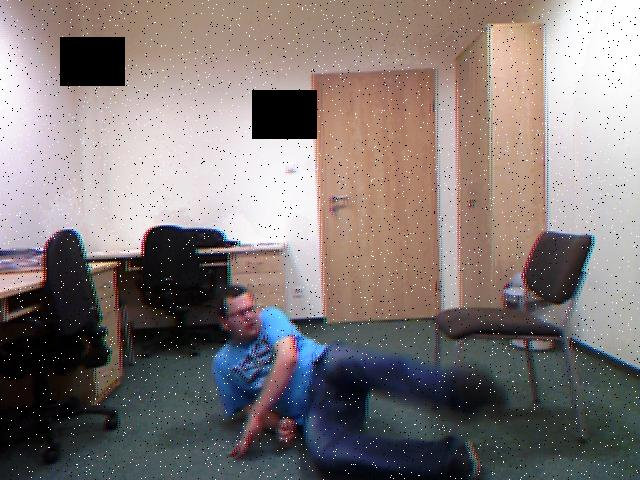fall: (199, 275, 520, 480)
